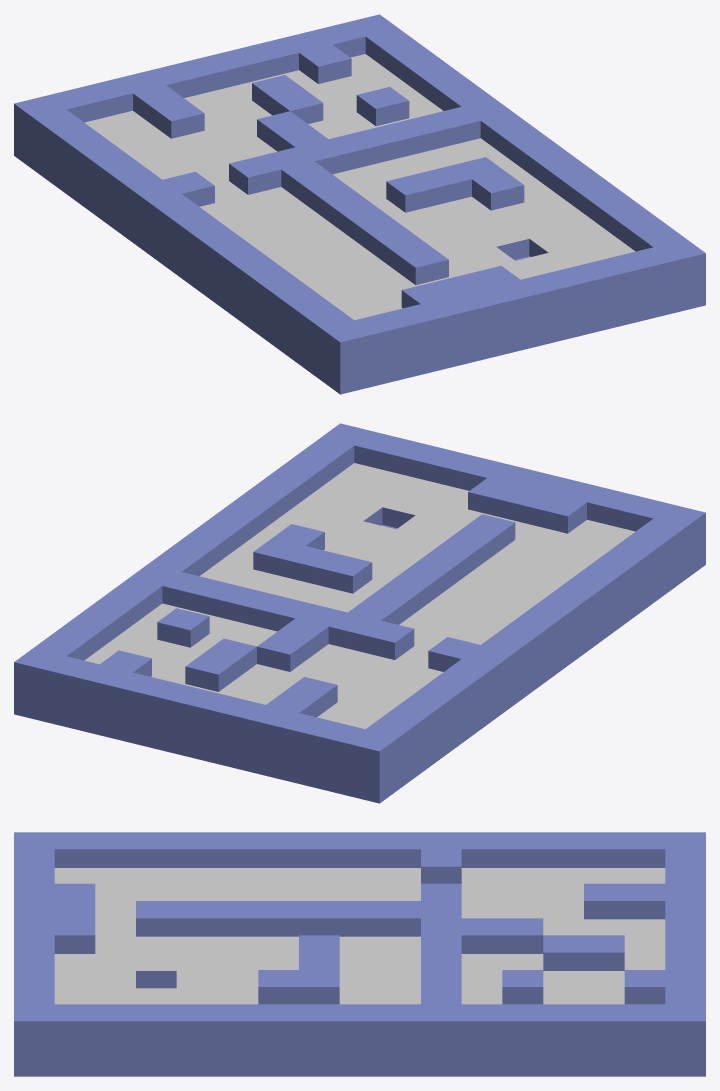
The model's file is 085_platform.fbx.
3 views of the same model, one above another, from view 1: azimuth 30°, elevation 25°; view 2: azimuth 150°, elevation 25°; view 3: azimuth 270°, elevation 25° (orthographic). The views are drawn at different scales.
Visible parts, largest first — view 1: Grid; view 2: Grid; view 3: Grid.
Boxes of the visible parts, x1=… form: Grid: x1=14, y1=14, x2=705, y2=394; Grid: x1=14, y1=423, x2=705, y2=803; Grid: x1=14, y1=832, x2=705, y2=1076.
Bounding box in the file's own units: 1100 × 150 × 1700.
